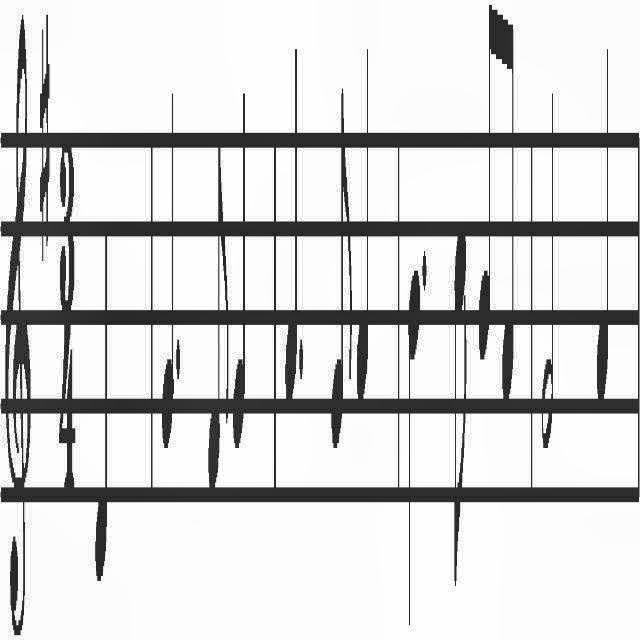Bass-clef: (4, 8, 32, 640)
Diez: (39, 12, 50, 260)
Eighth-note: (207, 124, 230, 510), (331, 72, 354, 456), (498, 5, 516, 411), (477, 0, 495, 376), (453, 209, 469, 603)
Half-note: (540, 70, 556, 458)
Quarter-note: (354, 41, 371, 415), (94, 208, 110, 594), (282, 38, 298, 418), (232, 84, 246, 458), (160, 93, 174, 455), (406, 269, 419, 637), (596, 31, 608, 416)
